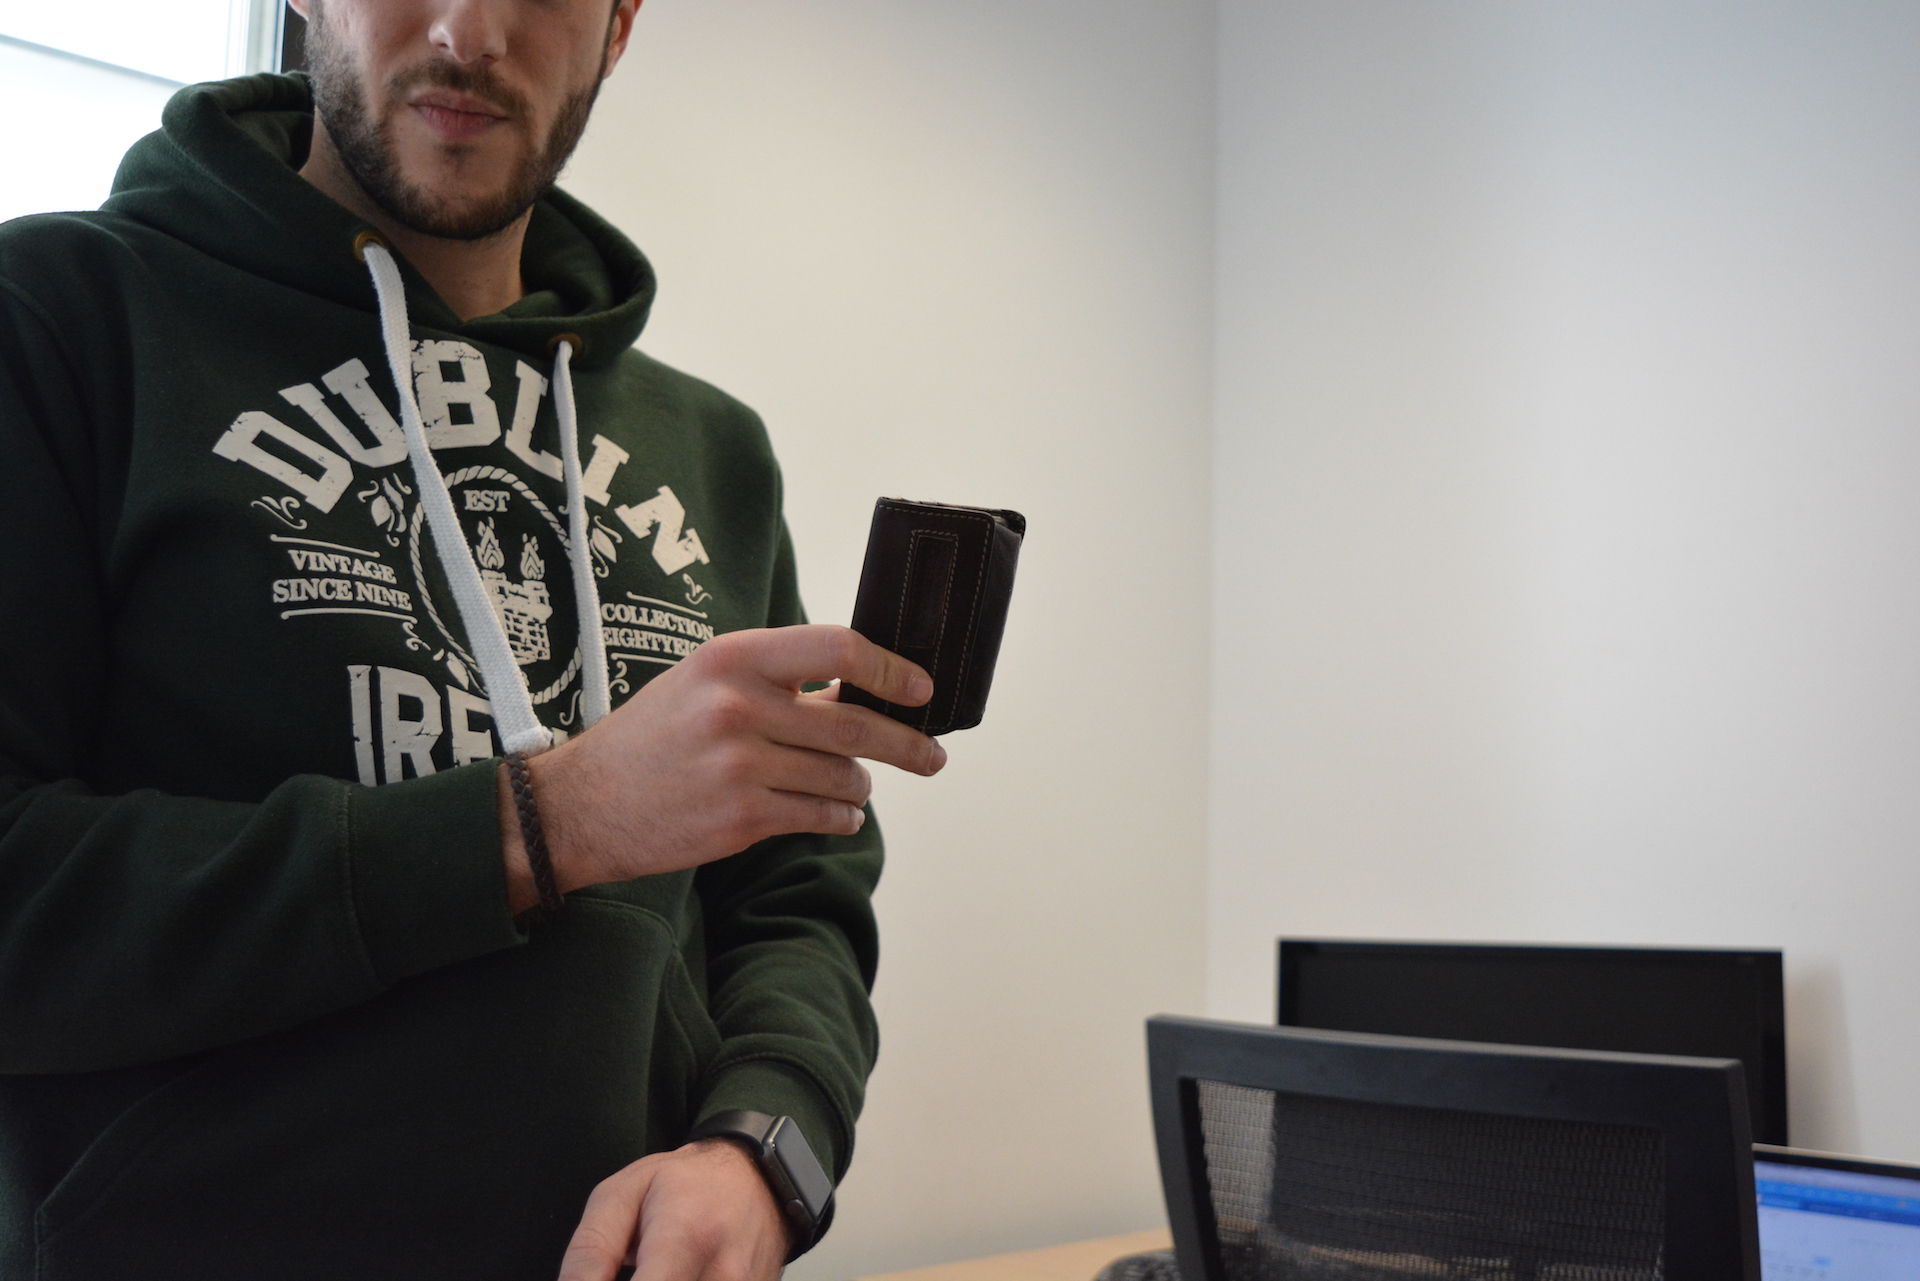monedero: (835, 495, 1028, 741)
